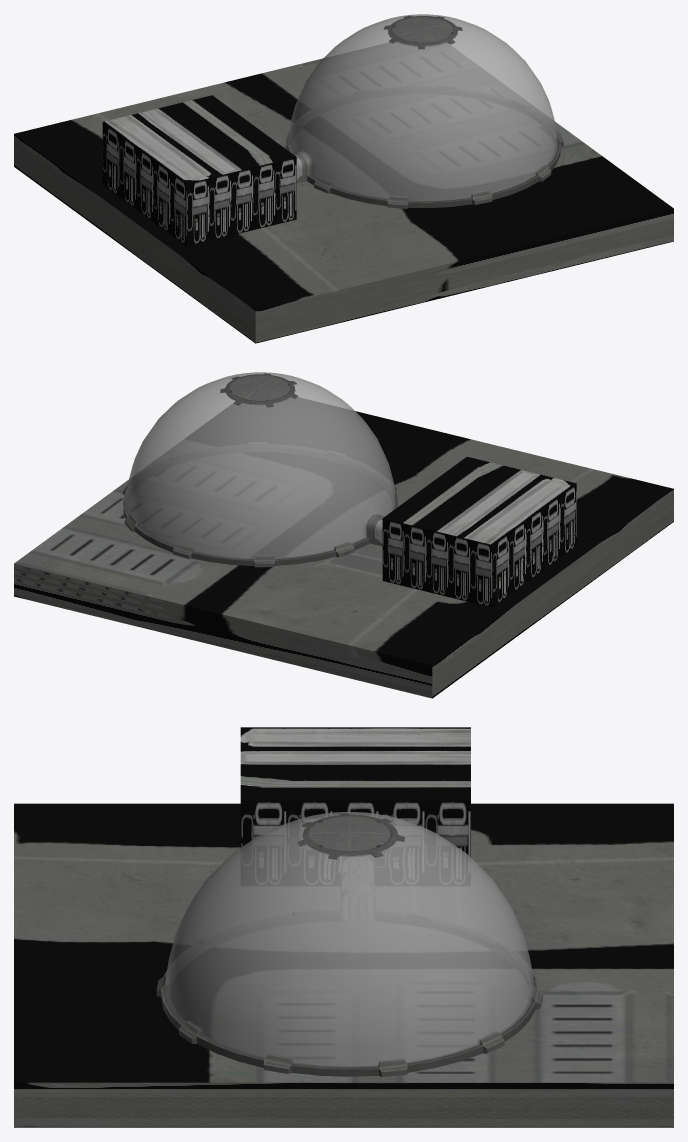
Rendered from DEFFINITELYTHISONE.fbx.
3 views of the same model, one above another, from view 1: azimuth 30°, elevation 25°; view 2: azimuth 150°, elevation 25°; view 3: azimuth 270°, elevation 25° (orthographic). The views are drawn at different scales.
Parts seen in each view (by area): view 1: pCube44, polySurface163, polySurface22, polySurface161; view 2: pCube44, polySurface163, polySurface22, polySurface161; view 3: pCube44, polySurface163, polySurface22, polySurface161.
Part boxes in pixels (x1,y1,x2,y2): pCube44: (14,43,673,343); polySurface163: (285,14,563,208); polySurface22: (288,14,557,200); polySurface161: (102,95,296,246); pCube44: (14,398,673,698); polySurface163: (123,372,398,567); polySurface22: (126,372,395,558); polySurface161: (382,456,576,607); pCube44: (14,803,673,1127); polySurface163: (156,812,542,1076); polySurface22: (165,812,533,1067); polySurface161: (240,727,470,885).
Bounding box in the file's own units: 3631 × 1278 × 3631.
